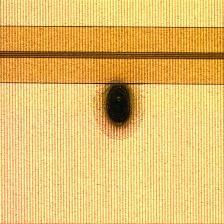PARTICLE: (92, 79, 152, 139)
